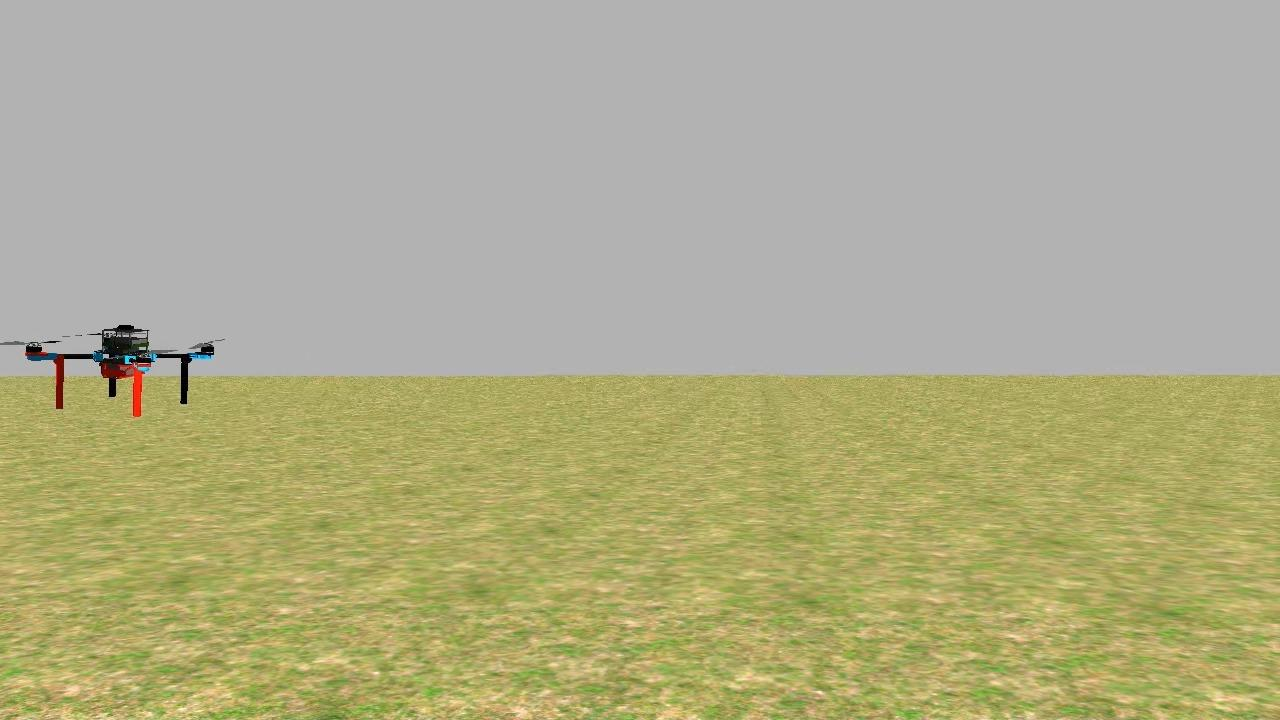UAV: (21, 310, 221, 439)
